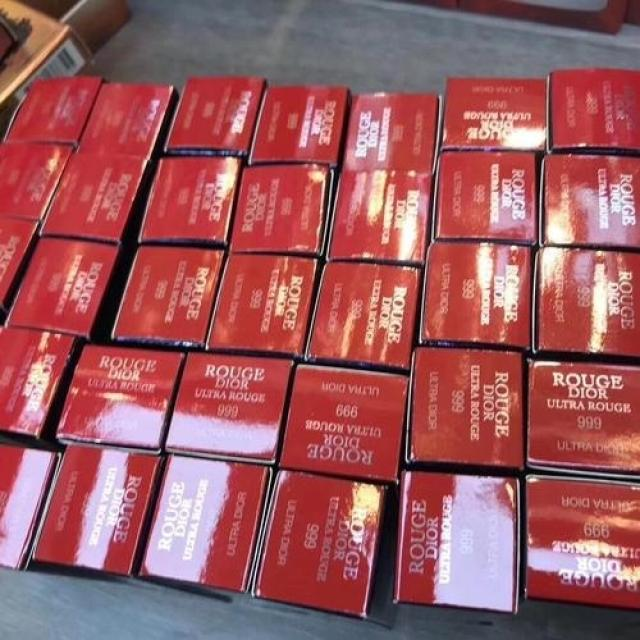box: (248, 466, 396, 621), (142, 454, 278, 596), (392, 468, 526, 612), (31, 442, 164, 579), (163, 349, 300, 470), (279, 364, 411, 489), (522, 472, 639, 609), (55, 343, 188, 454), (408, 348, 526, 472), (525, 356, 640, 480), (525, 241, 640, 365), (301, 259, 426, 372), (3, 237, 133, 343), (202, 255, 323, 364), (40, 155, 159, 259), (421, 241, 530, 351), (114, 242, 227, 348), (430, 147, 547, 246), (325, 168, 433, 269), (0, 324, 83, 452), (225, 165, 338, 255), (137, 156, 242, 251), (540, 152, 640, 248), (339, 88, 444, 174), (438, 76, 550, 155), (74, 82, 178, 166), (164, 77, 266, 159), (545, 69, 640, 156), (243, 87, 348, 165), (1, 442, 64, 572), (6, 77, 101, 147), (1, 141, 78, 219), (3, 216, 45, 324)
